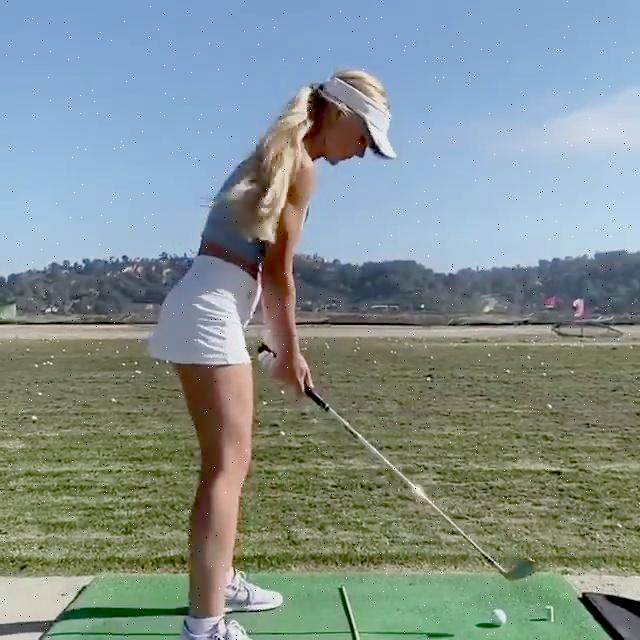golf ball: (491, 608, 508, 626)
golf club-handle: (256, 341, 541, 585)
golf club-head: (508, 558, 538, 580)
